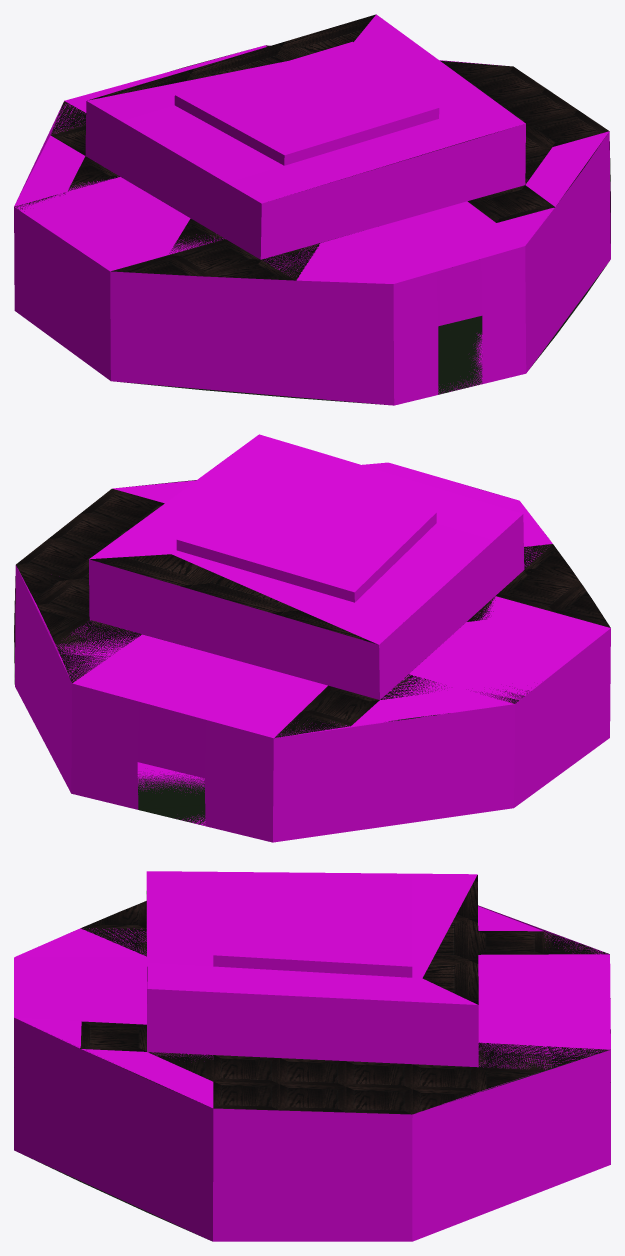
File: office_puzzle_room.fbx
3 views of the same model, one above another, from view 1: azimuth 30°, elevation 25°; view 2: azimuth 150°, elevation 25°; view 3: azimuth 270°, elevation 25° (orthographic). The views are drawn at different scales.
Parts seen in each view (by area): view 1: walls, ceiling1 (×2), ceiling2, Ceiling2, floor; view 2: walls, ceiling1 (×2), ceiling2, Ceiling2, floor (×2); view 3: walls, ceiling1 (×2), ceiling2, Ceiling2.
Boxes of the visible parts, x1,y1,x2,y2 form: walls: (14, 41, 610, 405); ceiling1 (×2): (14, 45, 609, 283); ceiling2: (86, 14, 525, 203); Ceiling2: (89, 14, 498, 182); floor: (117, 238, 607, 404); walls: (15, 465, 610, 842); ceiling1 (×2): (16, 462, 610, 738); ceiling2: (89, 434, 522, 644); Ceiling2: (90, 554, 377, 644); floor (×2): (58, 632, 502, 826); walls: (14, 886, 610, 1241); ceiling1 (×2): (14, 901, 610, 1114); ceiling2: (146, 871, 477, 1004); Ceiling2: (146, 875, 478, 1004).
Size of the model in its own units: 135 by 49.81 by 135.
